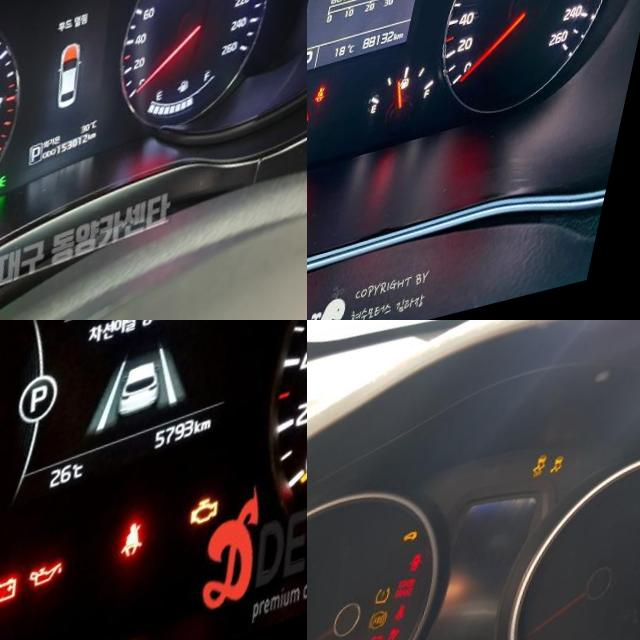Doors: (420, 564, 437, 584)
SideLamp: (1, 184, 23, 206)
